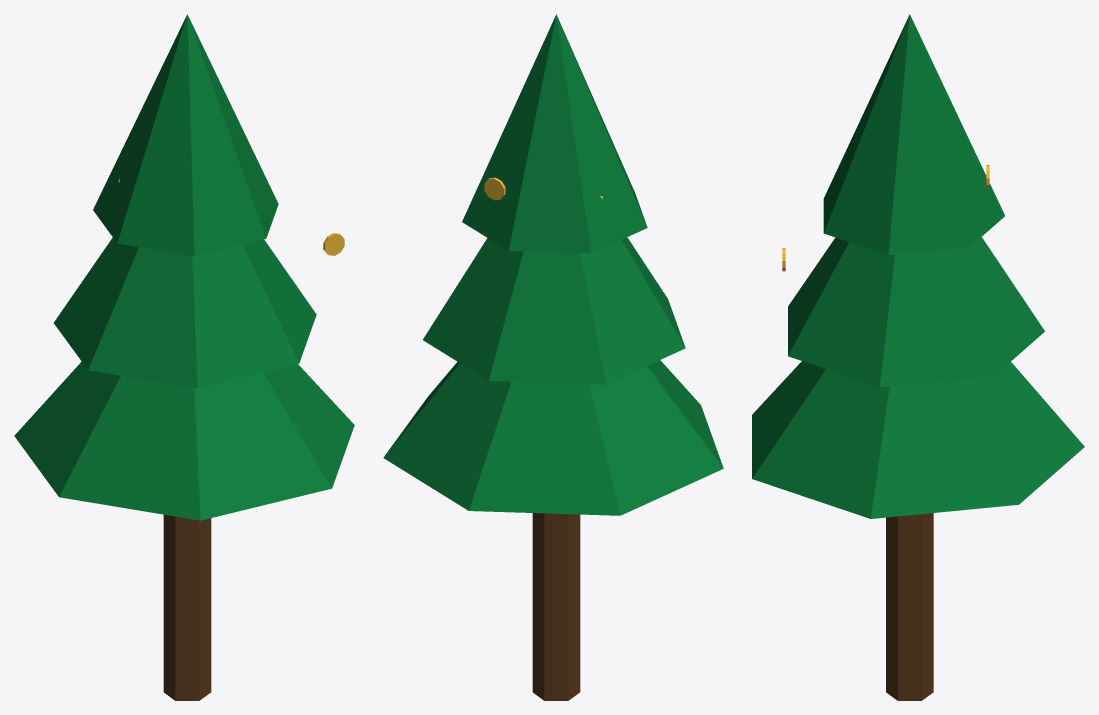
Rendered from Prop_OR_LedgerTree_14.glb.
The picture shows the model from 3 angles, left to right: view 1: azimuth 30°, elevation 25°; view 2: azimuth 150°, elevation 25°; view 3: azimuth 270°, elevation 25°; orthographic projection.
Parts seen in each view (by area): view 1: Prop_OR_LedgerTree_14; view 2: Prop_OR_LedgerTree_14; view 3: Prop_OR_LedgerTree_14.
Part boxes in pixels (x1,y1,x2,y2): Prop_OR_LedgerTree_14: (14, 14, 354, 700); Prop_OR_LedgerTree_14: (383, 14, 723, 700); Prop_OR_LedgerTree_14: (752, 14, 1084, 700).
Bounding box in the file's own units: 2.14 × 4.7 × 2.09.
